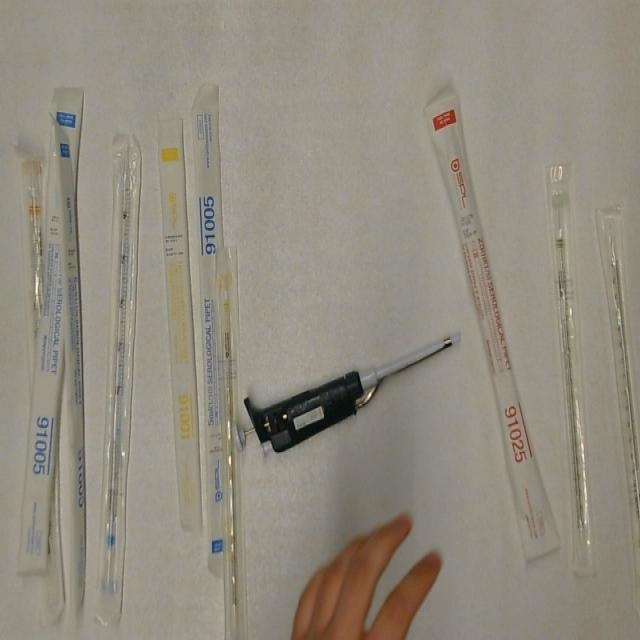Serelogical Pipet 1 mL: (157, 114, 206, 544), (216, 242, 247, 640)
Serelogical Pipet 10 mL: (18, 151, 50, 396)
Serelogical Pipet 2 mL: (548, 158, 601, 586)
Serelogical Pipet 25 mL: (424, 89, 560, 566)
Serelogical Pipet 5 mL: (17, 76, 86, 574), (87, 126, 144, 632), (191, 82, 240, 584), (52, 113, 90, 622)
Single Channel Pipettor: (229, 320, 467, 458)
